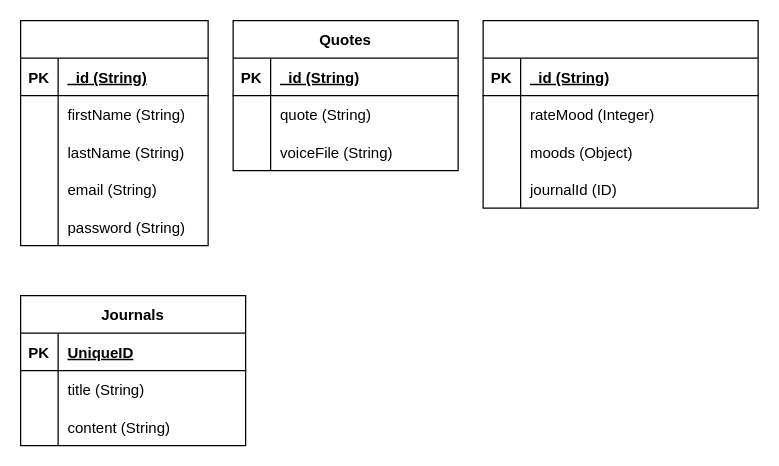
This 779x466 diagram has some shape labels left out. Here are the shapes that lost their labels. From the top down, the box of each, then its label:
(19, 19, 208, 246): Users
(482, 19, 758, 208): Records
